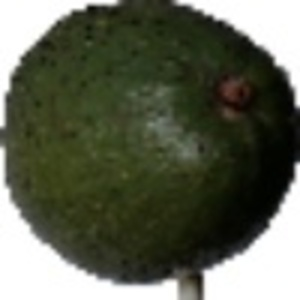abacate: (6, 2, 300, 283)
